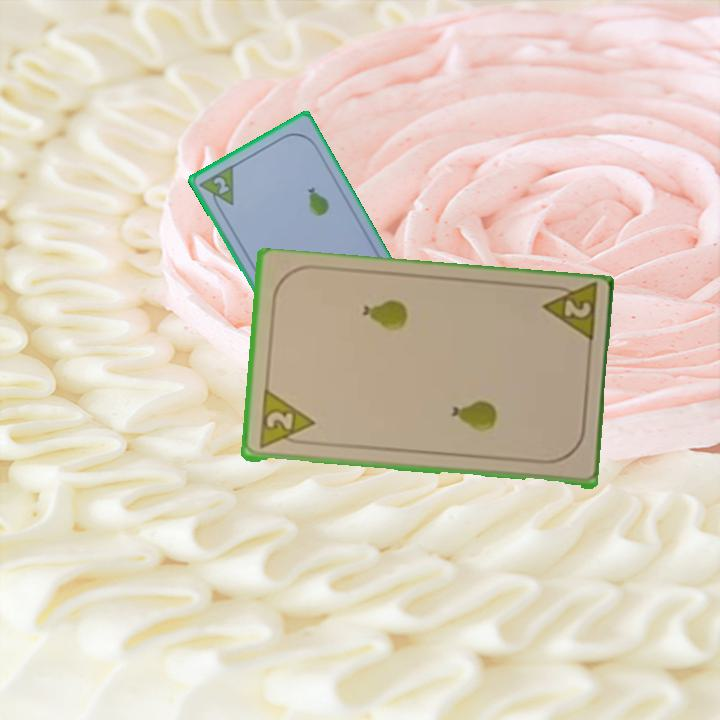2p: (537, 282, 600, 348), (255, 389, 316, 452), (209, 173, 232, 197)
